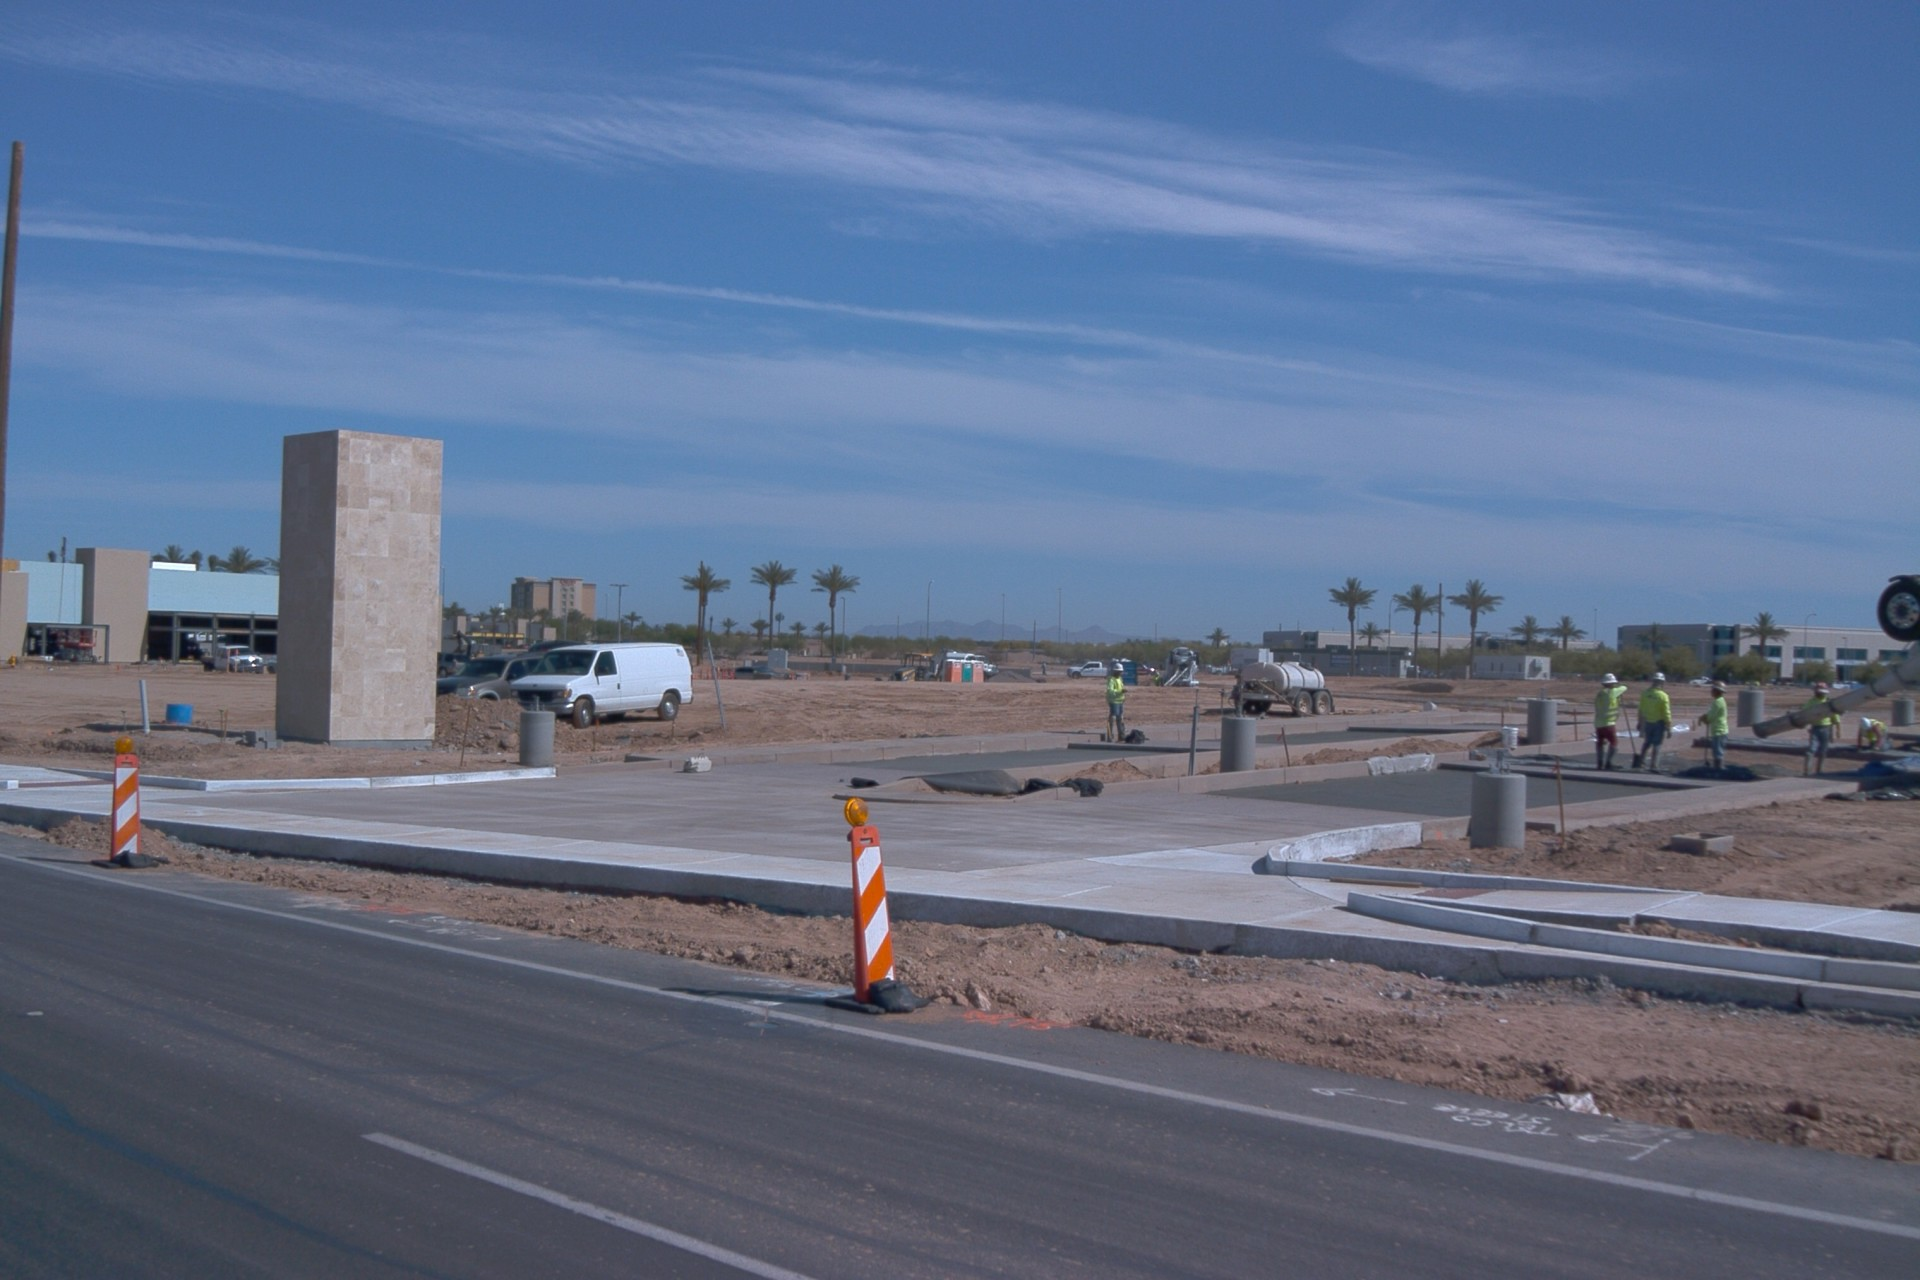TYPE_PEDESTRIAN: (1633, 672, 1673, 777), (1800, 682, 1842, 779), (1594, 673, 1629, 772), (1697, 677, 1730, 773), (1103, 660, 1130, 743), (1855, 715, 1889, 753), (1151, 669, 1166, 688), (1040, 659, 1049, 677)
TYPE_VEHICLE: (1750, 569, 1918, 740), (509, 643, 693, 733), (1220, 658, 1338, 717), (437, 651, 549, 710), (886, 647, 953, 683), (197, 640, 261, 673), (1160, 644, 1205, 689), (945, 650, 998, 683), (430, 649, 474, 681), (733, 667, 789, 680), (1066, 659, 1107, 676), (189, 634, 229, 642), (1132, 660, 1153, 675), (266, 656, 280, 675), (1208, 663, 1230, 675), (461, 637, 474, 644)
